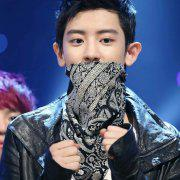NONE: (1, 107, 31, 164)
WRONG: (64, 24, 123, 90)
